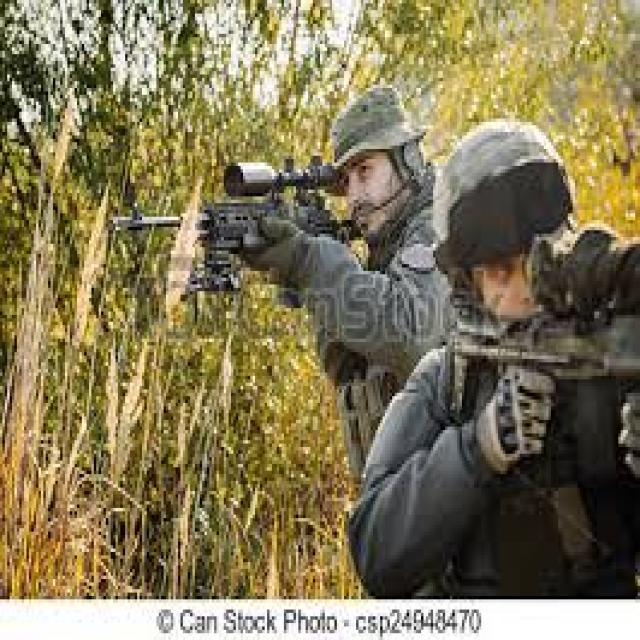soldier: (186, 72, 425, 589), (430, 103, 640, 640)
